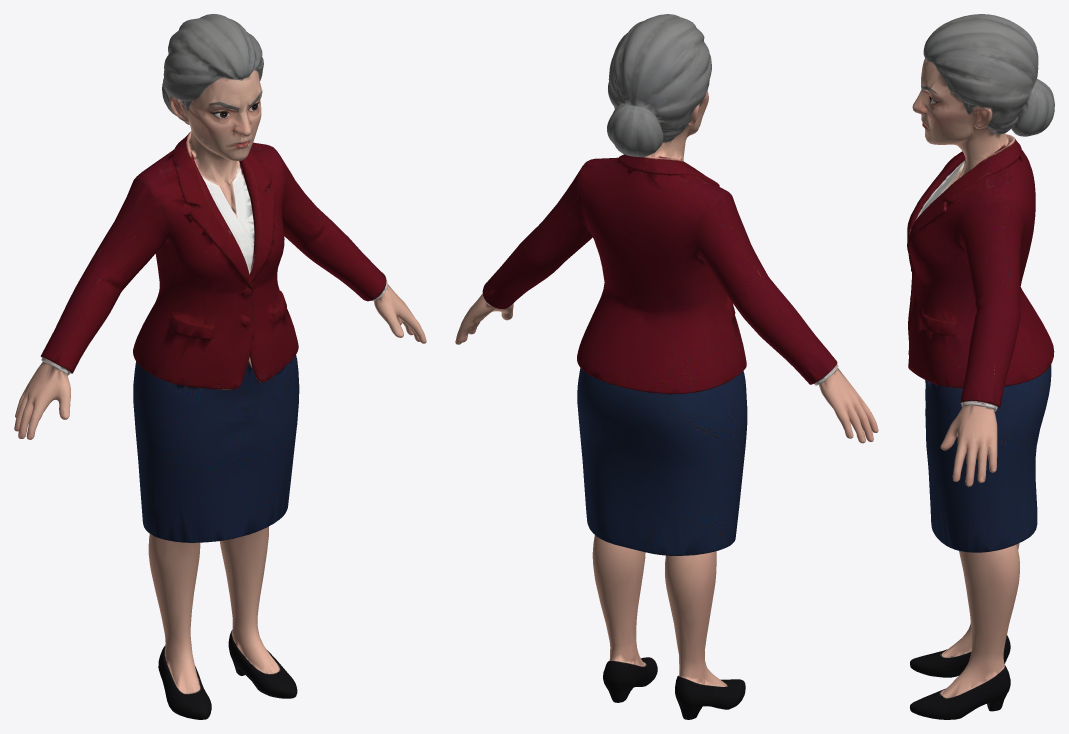
Rendered from profesora.glb.
The picture shows the model from 3 angles, left to right: view 1: azimuth 30°, elevation 25°; view 2: azimuth 150°, elevation 25°; view 3: azimuth 270°, elevation 25°; orthographic projection. The views are drawn at different scales.
Size of the model in its own units: 1.2 by 1.9 by 0.3781.
Materials: 1 (1 with a texture image).
